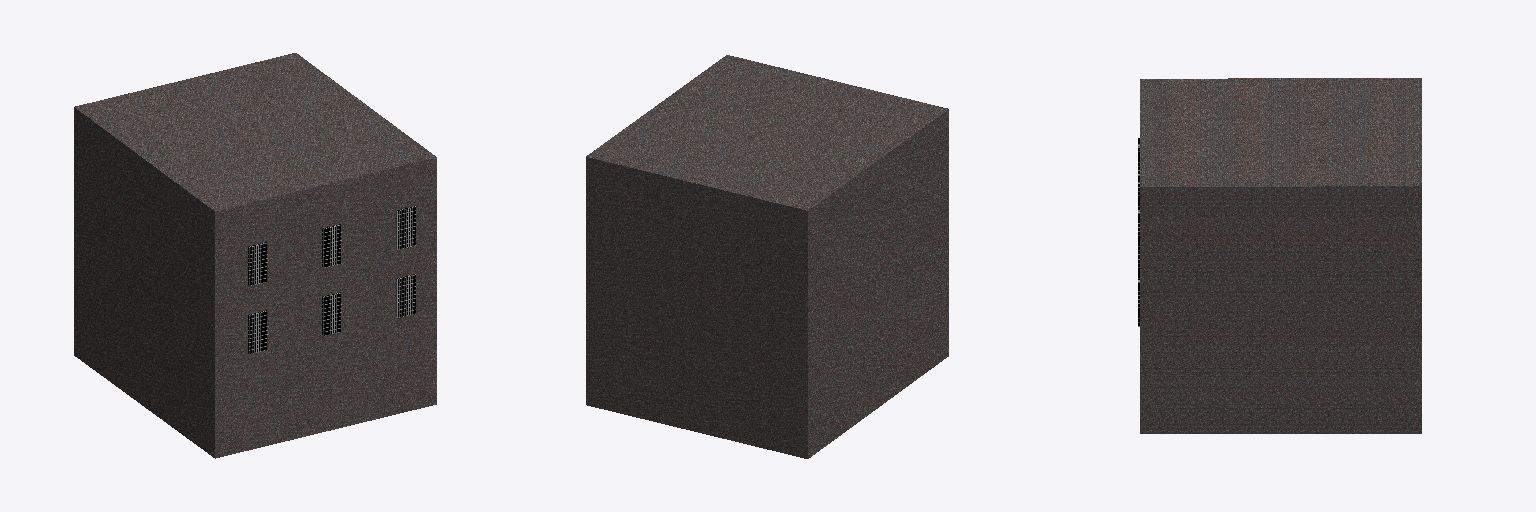
3 renders of one model, left to right at view 1: azimuth 30°, elevation 25°; view 2: azimuth 150°, elevation 25°; view 3: azimuth 270°, elevation 25°, orthographic.
Parts seen in each view (by area): view 1: brickbuilding; view 2: brickbuilding; view 3: brickbuilding.
Boxes of the visible parts, x1,y1,x2,y2 form: brickbuilding: [74, 53, 436, 458]; brickbuilding: [586, 55, 948, 458]; brickbuilding: [1138, 78, 1421, 433].
Size of the model in its own units: 59.94 by 64.05 by 66.45.
Materials: 2 (2 with a texture image).